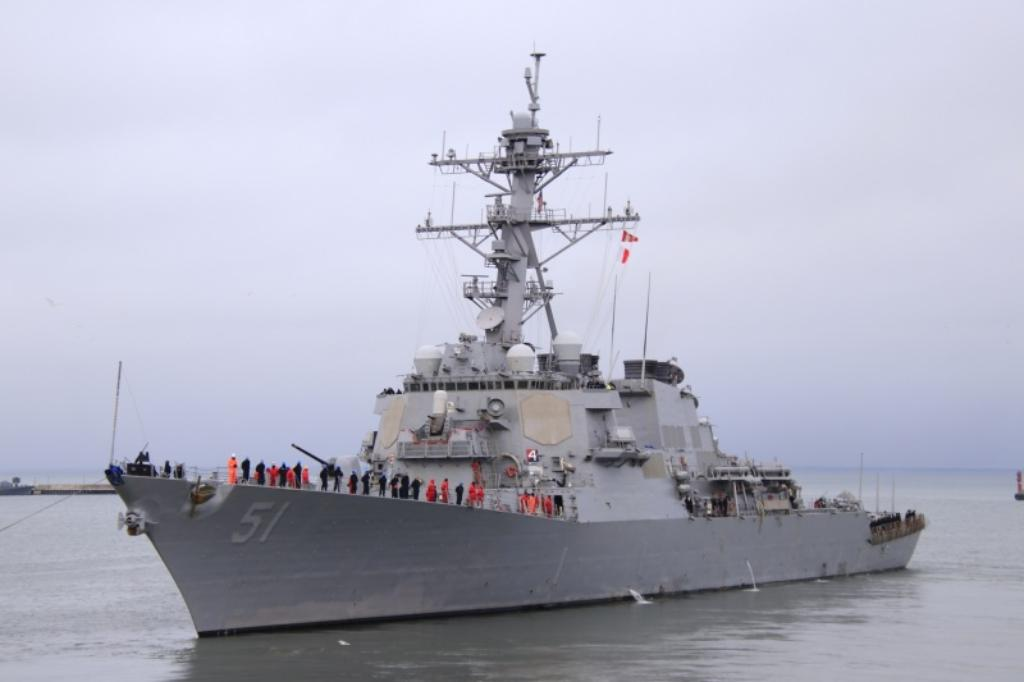Warship: (105, 46, 927, 646)
